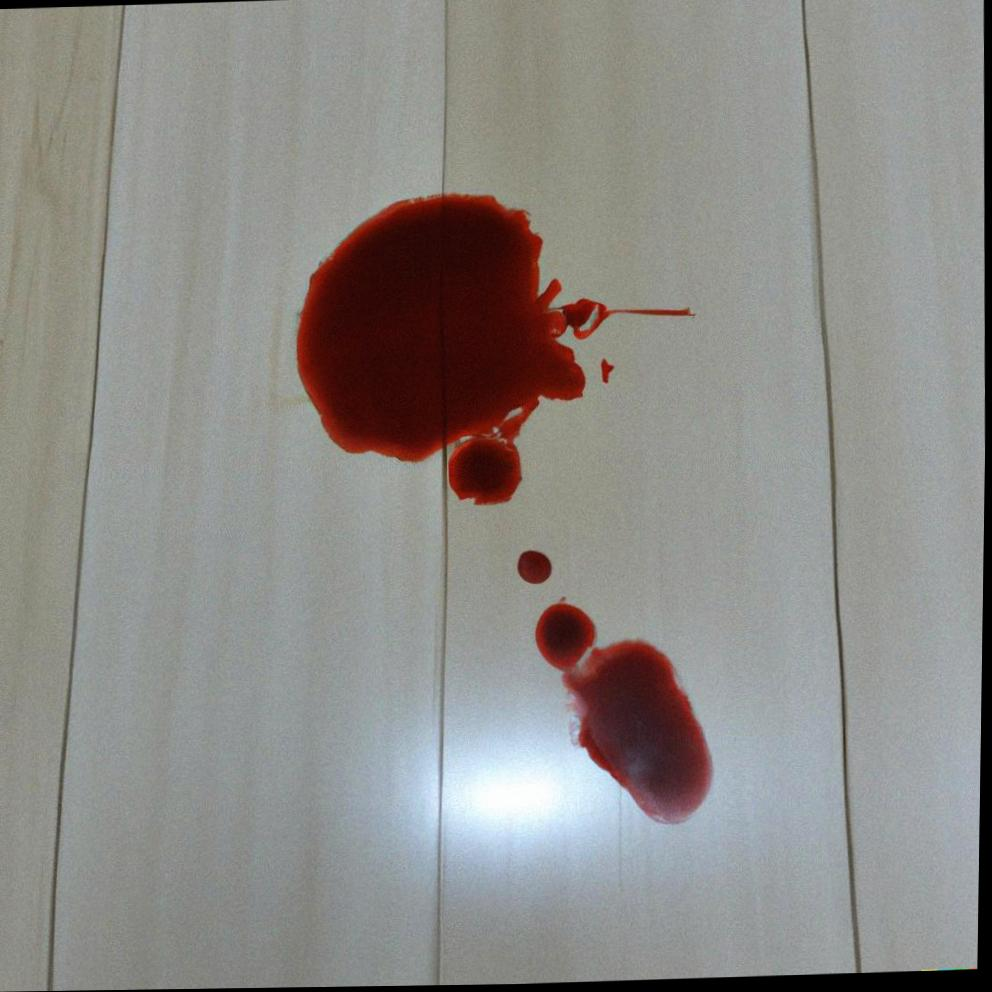Fire: (296, 194, 696, 506), (536, 598, 716, 827), (518, 551, 553, 585)
